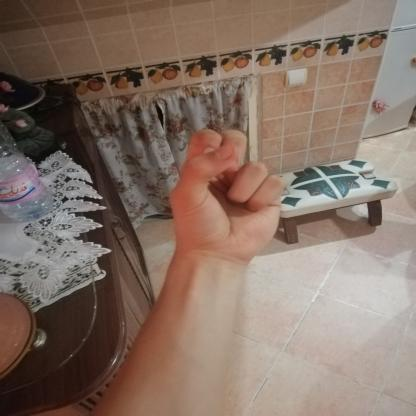QAAF: (149, 118, 310, 278)
